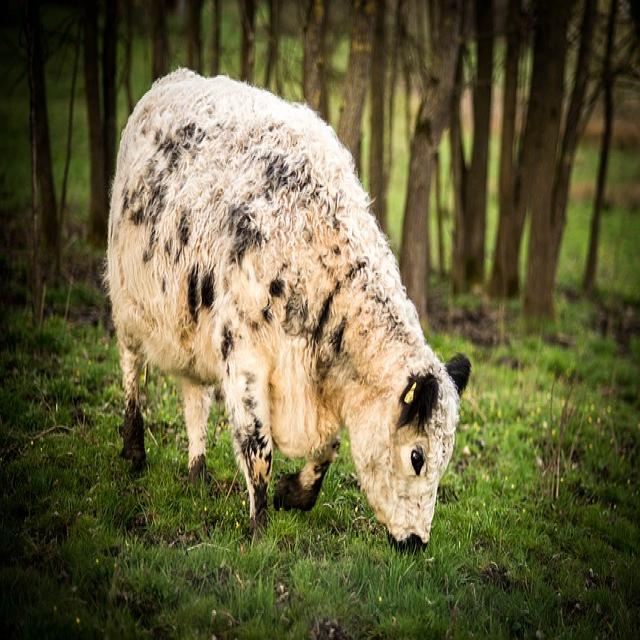sheep: (102, 64, 472, 554)
